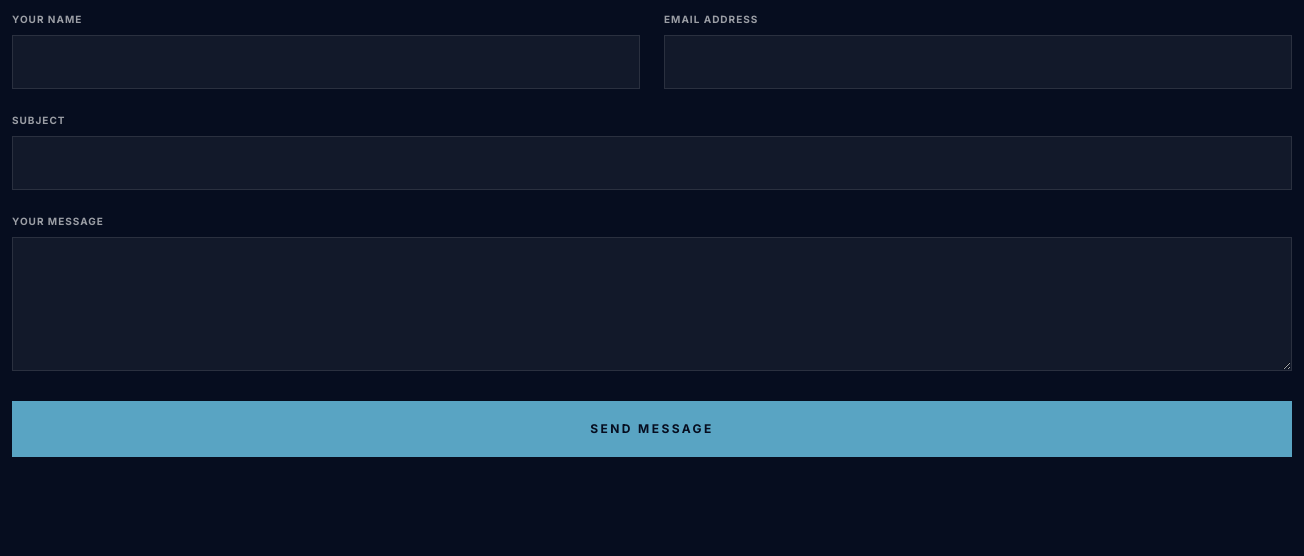
Test: ContactForm › shows the server's message on a rejected request and keeps what was typed
This screenshot has width=1304, height=556.
Type "Jane Doe" into the field labelled "Your Name" at (326, 62), box [12,35,640,89]
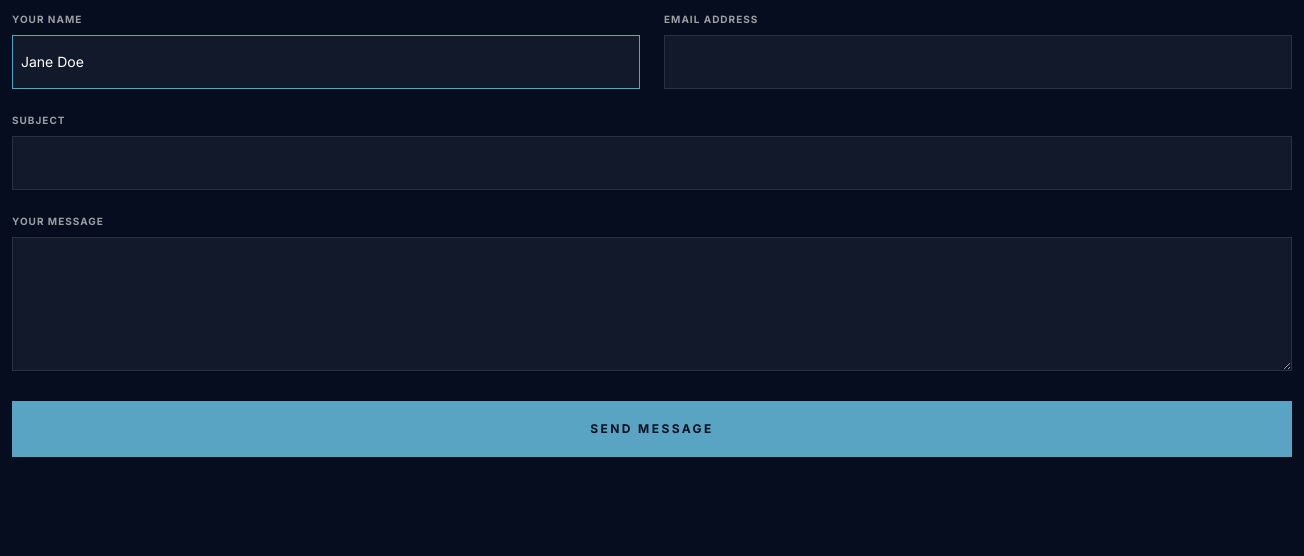
Type "jane@example.com" into the field labelled "Email Address" at (978, 62), box [664,35,1292,89]
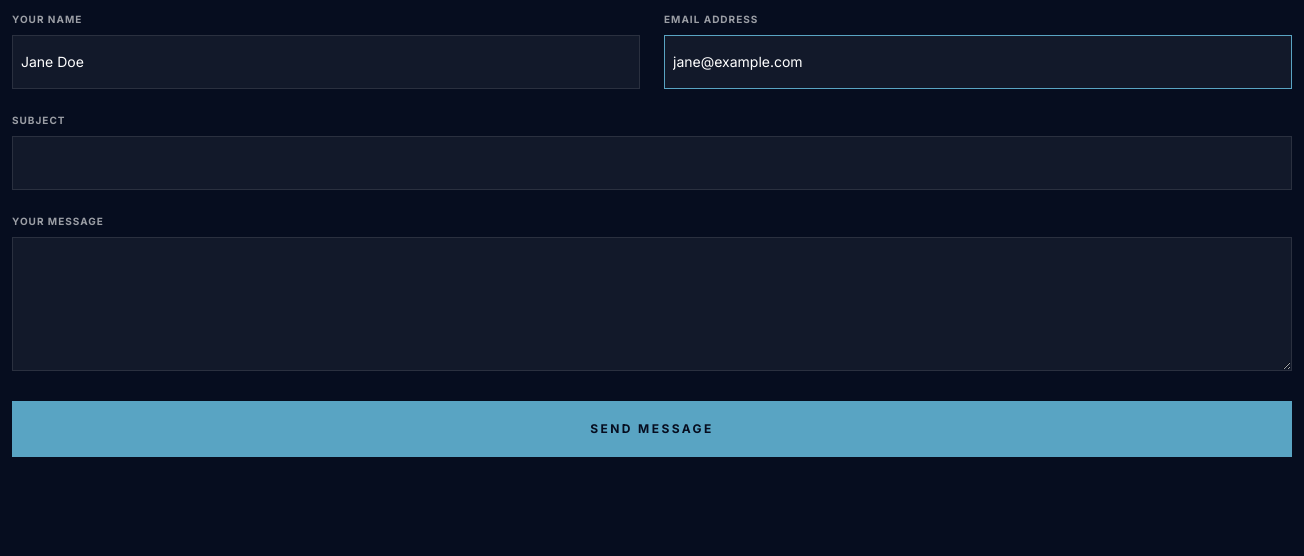
Type "Booking" into the field labelled "Subject" at (652, 163), box [12,136,1292,190]
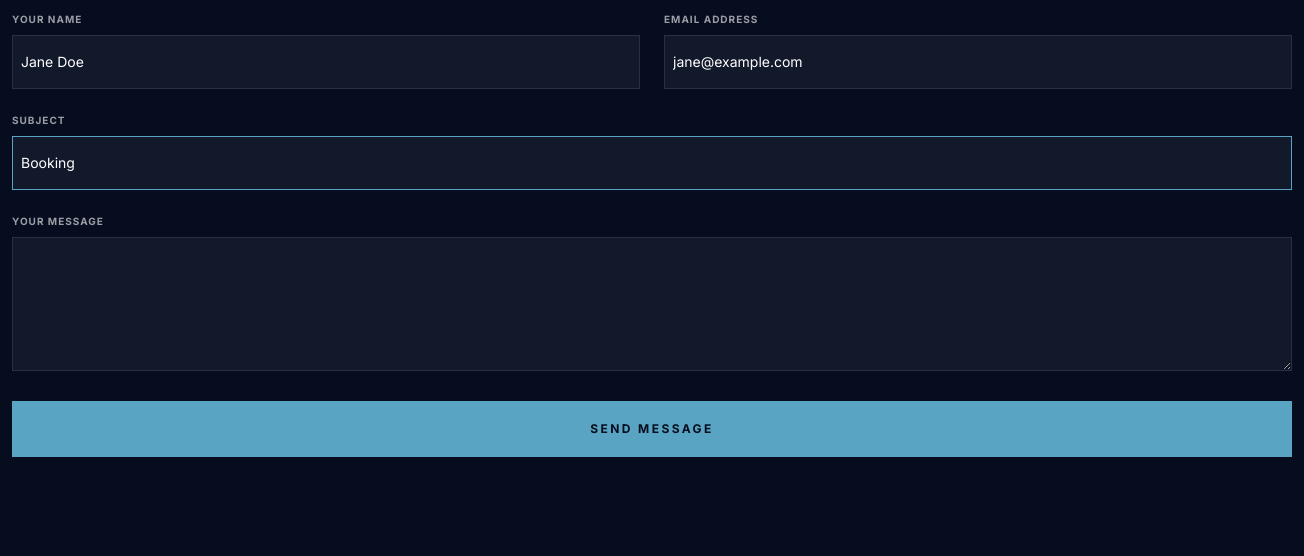
Type "Do you have rooms?" into the text box labelled "Your Message" at (652, 304), box [12,237,1292,371]
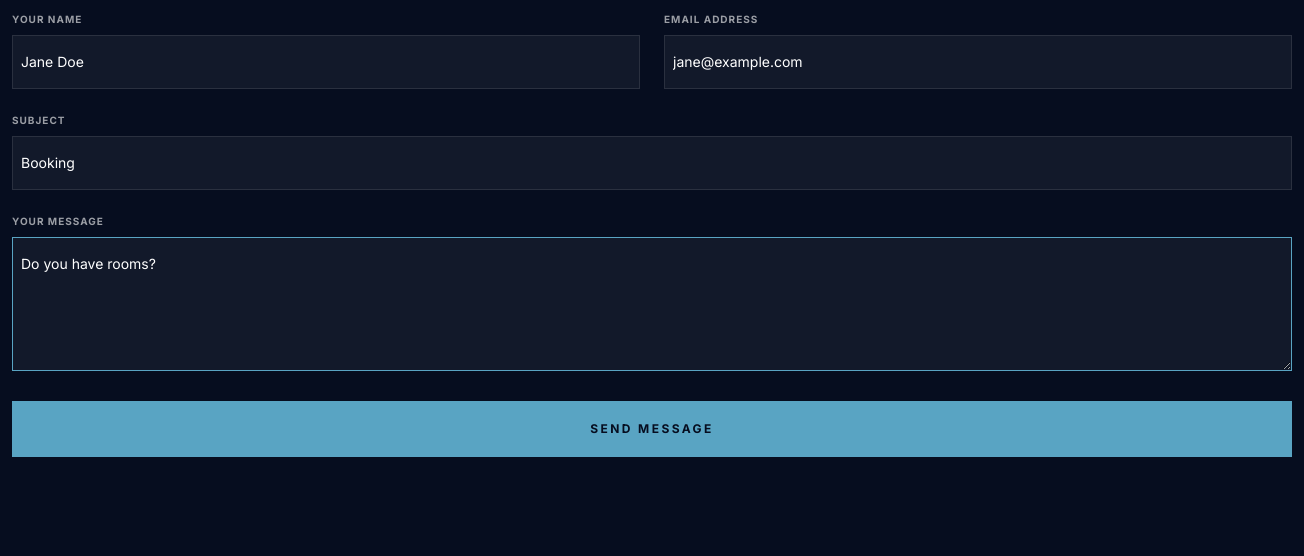
Click the button "Send Message" at (652, 429), box [12,401,1292,457]
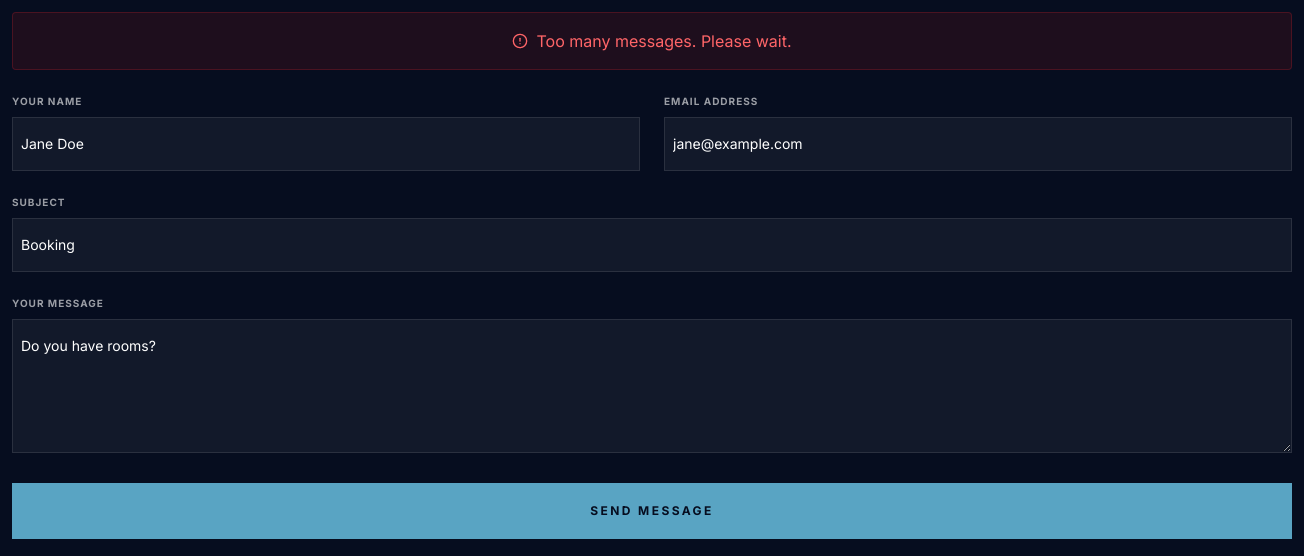
Expected: the message reads "Too many messages. Please wait.", [536,31,792,51]
